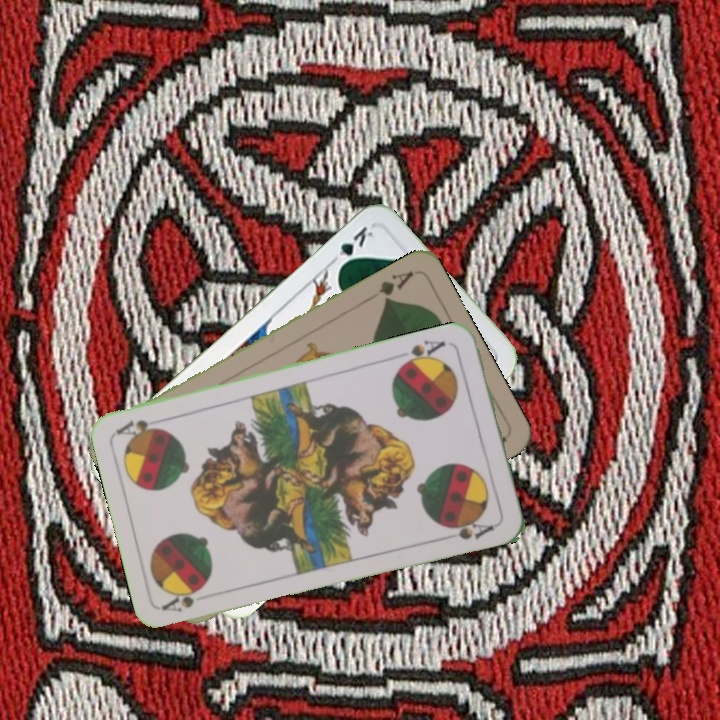GA: (363, 267, 416, 305)
GK: (326, 222, 377, 272)
SA: (394, 336, 448, 370), (158, 583, 208, 615)
